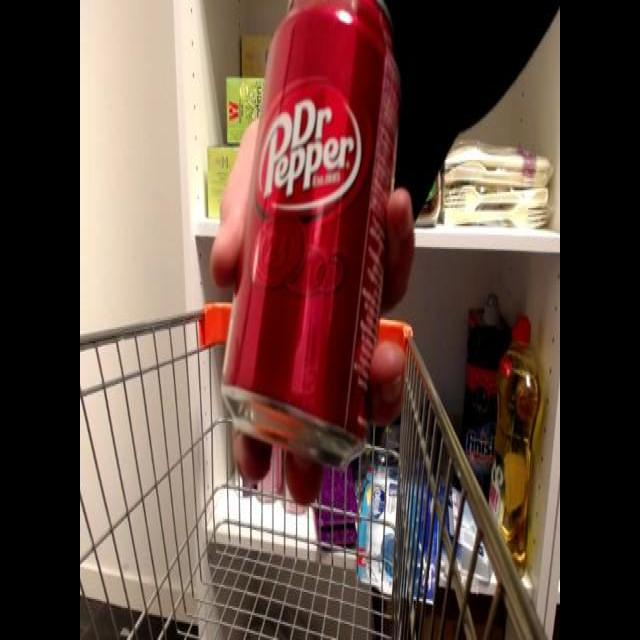Dr Pepper: (214, 14, 408, 478)
